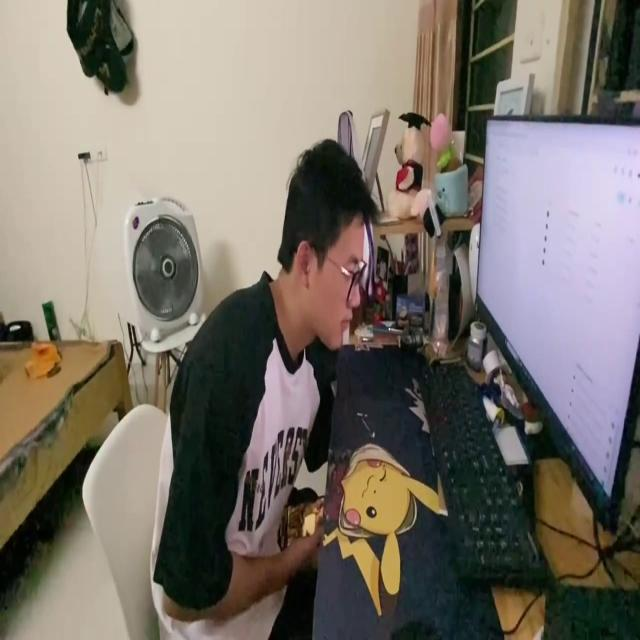laptop: (471, 102, 640, 531)
phone: (286, 492, 328, 540)
student: (156, 138, 372, 640)
